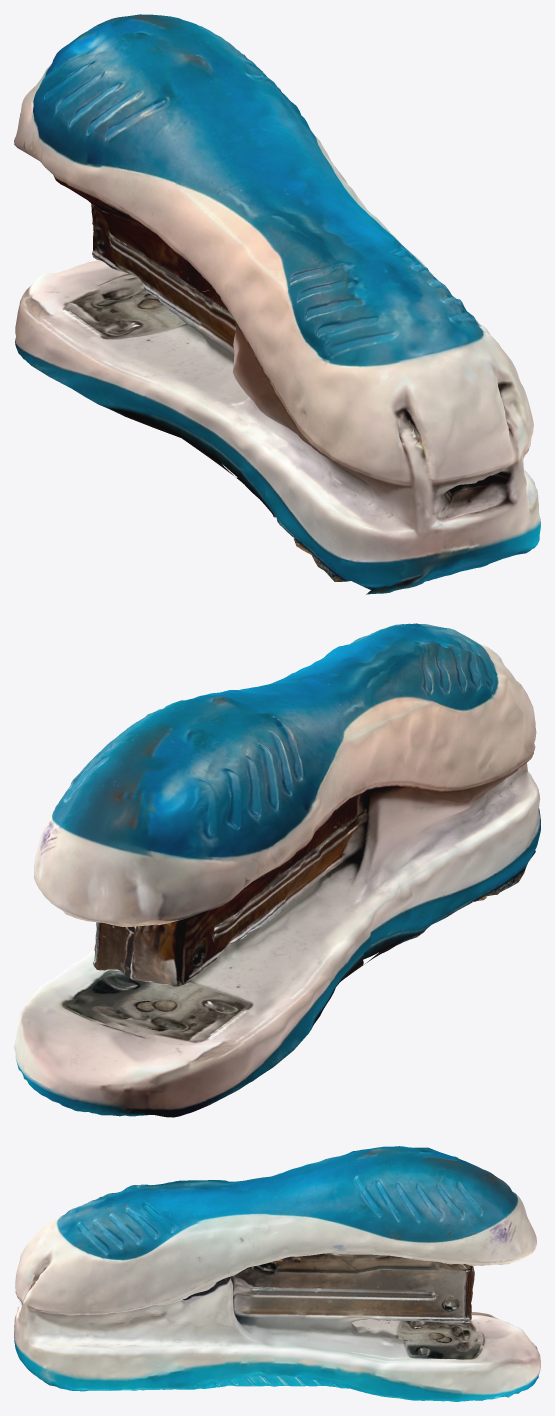
3 views of the same model, one above another, from view 1: azimuth 30°, elevation 25°; view 2: azimuth 150°, elevation 25°; view 3: azimuth 270°, elevation 25° (orthographic). The views are drawn at different scales.
Visible parts, largest first — view 1: Object_4; view 2: Object_4; view 3: Object_4.
Part boxes in pixels (box(x1,y1,x2,y2)): Object_4: box(14, 14, 540, 594); Object_4: box(14, 623, 540, 1117); Object_4: box(14, 1146, 540, 1401).
Size of the model in its own units: 0.0498 by 0.0708 by 0.1504.
Materials: 1 (1 with a texture image).
